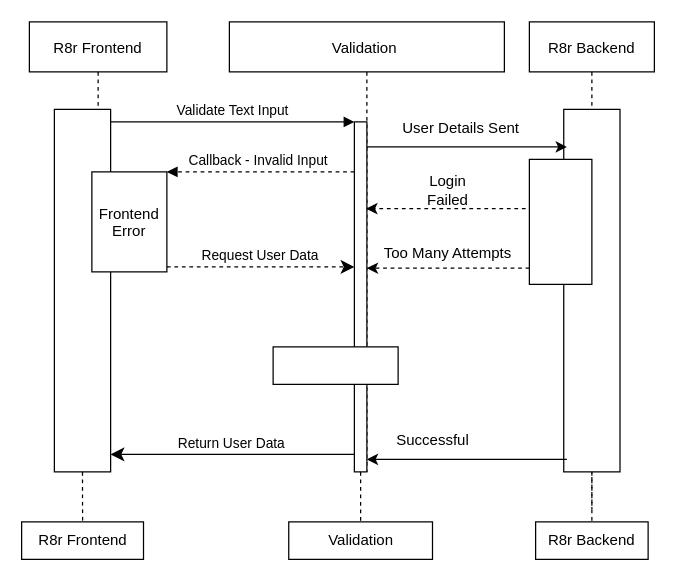
Image size: 678x581. Some labels were removed from this diagram. The box of each missing label's shape, as (x1, y1, x2, y2) in pixels:
Error Check and Router: (272, 346, 398, 384)
Login Denied: (528, 158, 592, 284)
Valid: (53, 108, 111, 472)
